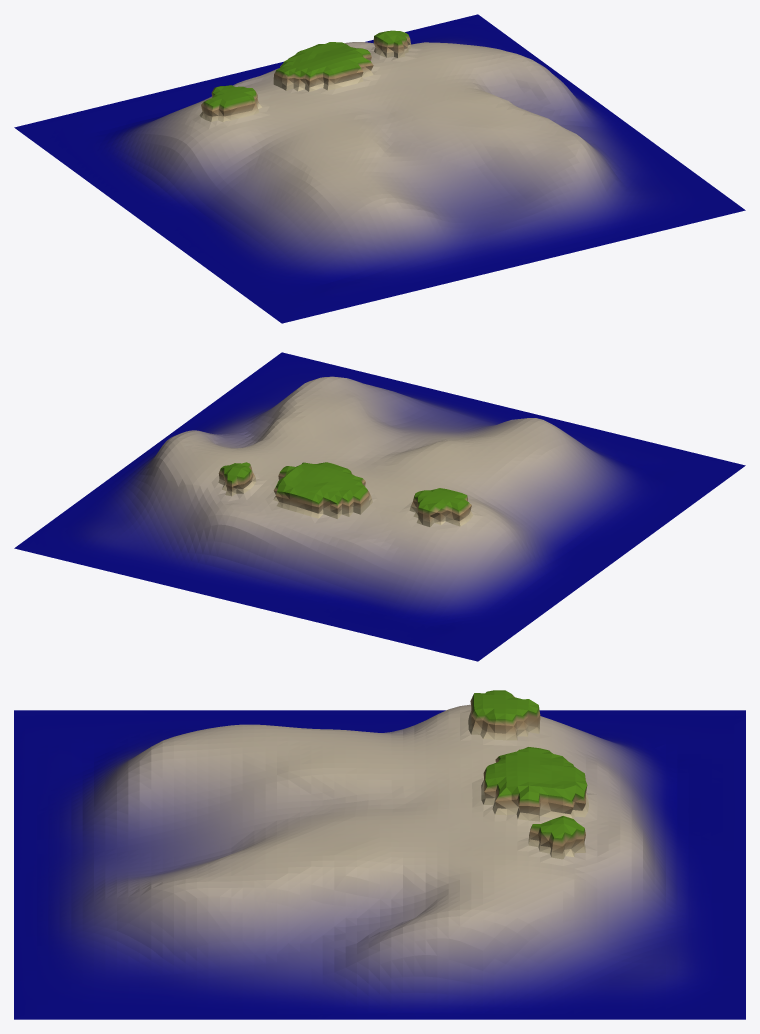
Rendered from Beech.fbx.
3 views of the same model, one above another, from view 1: azimuth 30°, elevation 25°; view 2: azimuth 150°, elevation 25°; view 3: azimuth 270°, elevation 25° (orthographic). The views are drawn at different scales.
Visible parts, largest first — view 1: _Beech; view 2: _Beech; view 3: _Beech.
Part boxes in pixels (left/top/right/bottom): _Beech: left=14, top=14, right=745, bottom=323; _Beech: left=14, top=352, right=745, bottom=661; _Beech: left=14, top=690, right=745, bottom=1019.
Bounding box in the file's own units: 10000 × 1500 × 10000.
